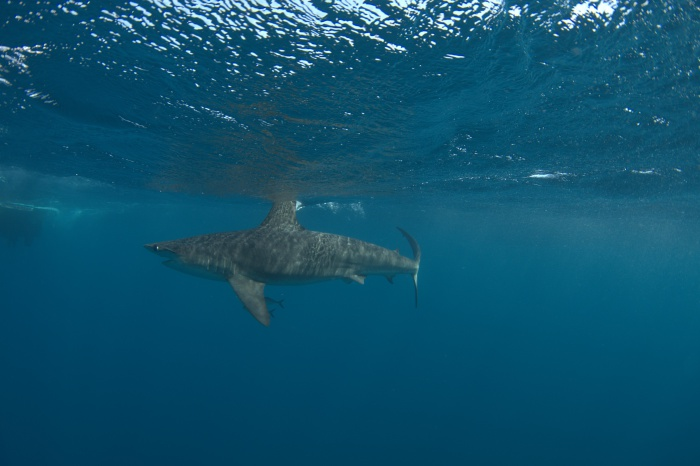Hammer: (154, 178, 432, 329), (128, 223, 377, 354)
